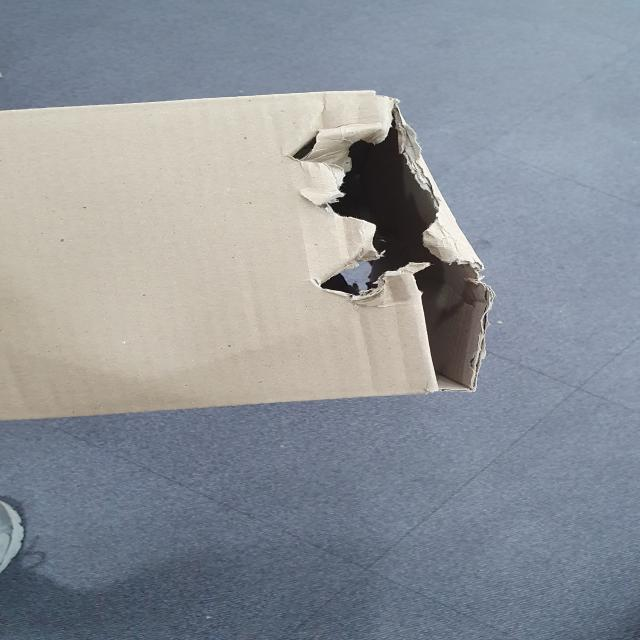hole: (296, 92, 501, 393)
